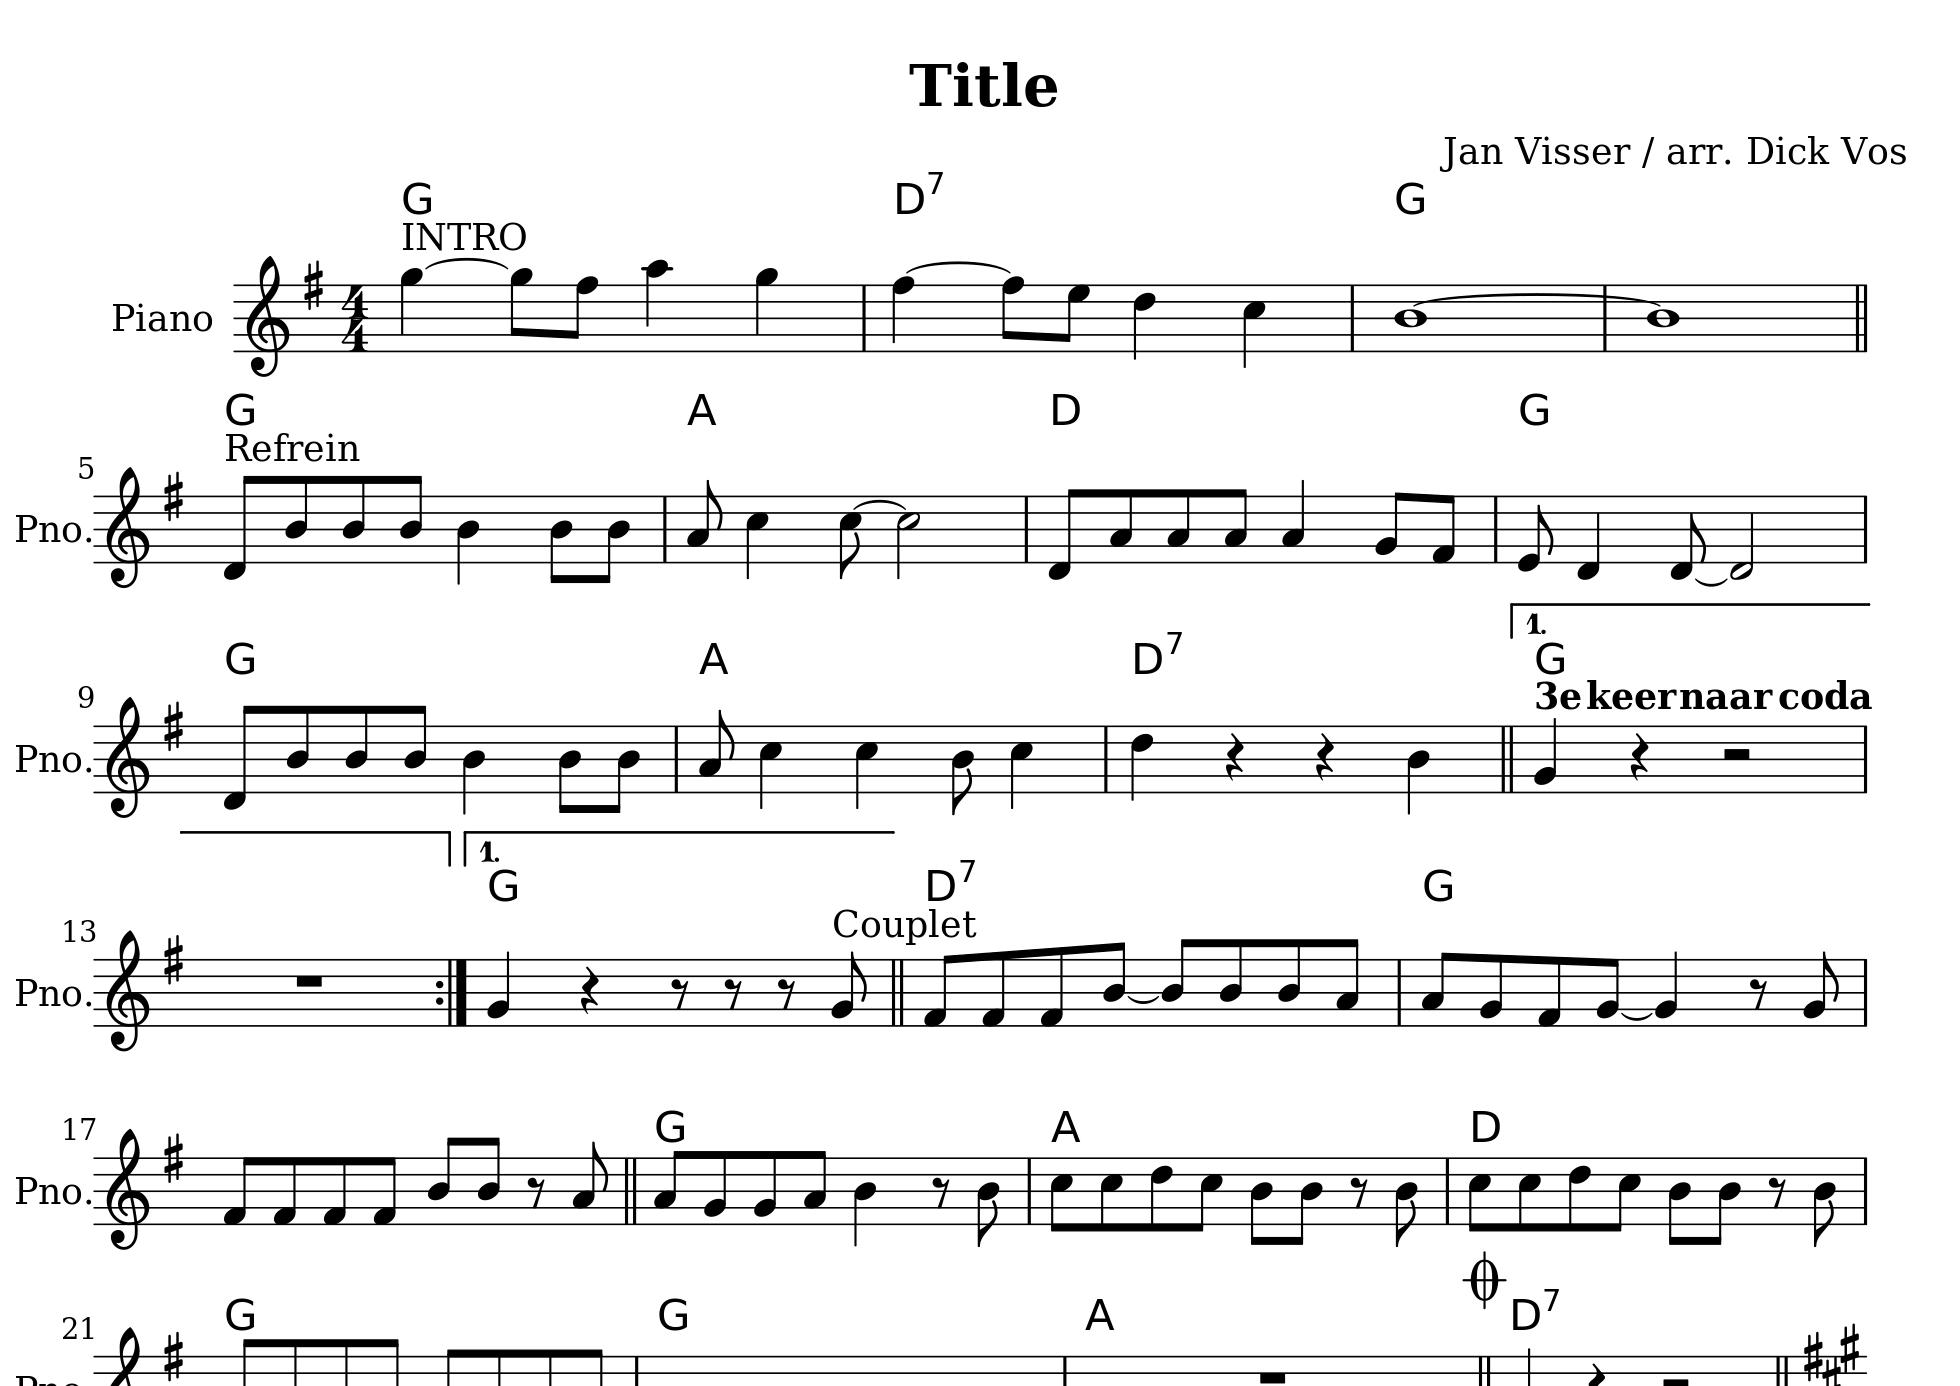1: (61, 1114, 76, 1144), (79, 1314, 94, 1342), (61, 916, 76, 943)
1_4: (1645, 280, 1681, 352), (1393, 280, 1428, 354)
2: (58, 1314, 79, 1342)
2_-1: (1729, 493, 1756, 580)
2_5: (895, 493, 921, 580)
3: (79, 916, 97, 943)
4: (337, 315, 373, 351), (339, 280, 372, 316)
4_-1: (1575, 493, 1602, 582)
4_10: (642, 258, 670, 354)
4_2: (1653, 949, 1680, 1029), (1533, 717, 1560, 795), (486, 949, 511, 1027)
4_3: (1281, 478, 1306, 564)
4_4: (454, 493, 480, 586), (852, 1155, 877, 1248), (460, 723, 486, 814), (1405, 723, 1431, 814)
4_5: (1242, 282, 1269, 369), (757, 723, 783, 811), (853, 723, 879, 811), (744, 493, 769, 580), (1009, 723, 1035, 810)
4_6: (1131, 282, 1156, 361), (1129, 723, 1153, 802)
4_8: (889, 274, 916, 354)
4_9: (753, 265, 780, 354), (397, 265, 423, 354)
5: (78, 453, 94, 480)
7: (79, 1114, 97, 1144), (958, 855, 976, 882), (927, 166, 943, 195), (1165, 628, 1183, 654), (1542, 1285, 1560, 1311)
8_-1: (220, 472, 259, 582), (220, 703, 259, 813), (1047, 486, 1083, 580), (1669, 493, 1708, 580)
8_0: (1518, 493, 1554, 573)
8_1: (220, 1155, 256, 1227), (921, 952, 955, 1027), (1038, 943, 1068, 1029), (1534, 952, 1564, 1029), (979, 949, 1008, 1029), (321, 1153, 349, 1227), (370, 1153, 399, 1227), (1431, 492, 1458, 565), (271, 1153, 298, 1227)
8_2: (829, 949, 867, 1027), (1803, 949, 1839, 1027), (1374, 489, 1407, 564), (751, 1147, 778, 1227), (702, 1149, 729, 1227), (1479, 952, 1506, 1029), (1594, 955, 1621, 1027)
8_3: (696, 708, 735, 793), (685, 477, 723, 564), (571, 1138, 609, 1225), (1420, 949, 1455, 1027), (652, 1147, 685, 1227), (1335, 936, 1362, 1027), (1108, 486, 1135, 565), (1165, 486, 1192, 565), (802, 1147, 828, 1227), (1224, 486, 1248, 564)
8_4: (604, 723, 642, 814), (595, 493, 631, 586), (1707, 1153, 1743, 1246), (1288, 1155, 1324, 1246), (1161, 936, 1194, 1027), (426, 1135, 459, 1225), (283, 703, 312, 795), (283, 472, 310, 565), (340, 472, 367, 565), (547, 493, 574, 586), (556, 723, 583, 816), (949, 723, 976, 816), (1218, 936, 1245, 1029), (1276, 936, 1303, 1029), (975, 1155, 1002, 1248), (343, 703, 370, 795), (475, 1135, 502, 1227), (1248, 1155, 1275, 1246), (1666, 1155, 1693, 1246), (397, 472, 423, 565), (402, 702, 427, 795), (1812, 1155, 1837, 1248), (1101, 940, 1128, 1027), (1393, 1155, 1419, 1246)
8_5: (1608, 1155, 1642, 1233), (1191, 1155, 1224, 1234), (835, 493, 862, 580), (1098, 1155, 1125, 1234), (1048, 1155, 1074, 1234), (1467, 1155, 1492, 1234), (1518, 1155, 1543, 1233)
8_6: (1566, 1155, 1593, 1234), (1149, 1153, 1174, 1234)
8_7: (1059, 282, 1090, 352)
8_8: (565, 274, 598, 354), (1000, 274, 1026, 354)
8_9: (508, 265, 532, 354)
9: (76, 682, 94, 709)
Coda: (1464, 1249, 1506, 1309)
Double_barline: (1497, 724, 1519, 792), (1851, 283, 1872, 352), (619, 1155, 640, 1224), (888, 958, 907, 1024)
Gclef: (102, 928, 151, 1051), (103, 463, 151, 589), (103, 1126, 151, 1251), (243, 253, 291, 376), (103, 694, 151, 817)
Pno: (111, 301, 211, 336), (12, 739, 85, 778), (10, 510, 84, 547), (10, 1171, 84, 1209), (10, 975, 84, 1009)
Prima_volta: (460, 826, 900, 868), (1504, 598, 1873, 642)
Rests1: (291, 970, 327, 990), (1255, 1366, 1291, 1384)
Rests2: (1719, 744, 1756, 765)
Rests4: (1314, 730, 1336, 783), (1629, 730, 1651, 783), (1224, 730, 1245, 783), (579, 964, 600, 1015), (1587, 1360, 1608, 1386)
Rests8: (930, 1174, 952, 1209), (1348, 1174, 1371, 1209), (1767, 1174, 1789, 1209), (775, 976, 796, 1009), (1749, 976, 1770, 1009), (526, 1174, 546, 1209), (670, 976, 690, 1009), (723, 976, 742, 1009)
RightRepeatSign: (433, 958, 469, 1026)
Sharp: (160, 697, 187, 754), (160, 931, 187, 988), (160, 1129, 187, 1186), (160, 469, 187, 525), (160, 1329, 186, 1381), (301, 259, 325, 313)
Single_barline: (655, 495, 673, 562), (667, 724, 685, 790), (1597, 283, 1614, 352), (1488, 493, 1504, 562), (856, 283, 873, 351), (1857, 495, 1873, 562), (1392, 957, 1408, 1024), (1857, 958, 1873, 1026), (1440, 1155, 1456, 1222), (1098, 724, 1114, 790), (1858, 1156, 1873, 1225), (1020, 495, 1035, 562), (1345, 283, 1360, 349), (1858, 726, 1873, 792), (1023, 1156, 1038, 1222)
Slur: (1416, 291, 1659, 307), (904, 259, 1014, 274), (424, 255, 511, 270), (850, 498, 907, 511), (1693, 576, 1731, 586), (1620, 1011, 1656, 1021), (1128, 994, 1161, 1003)
TimeSig: (339, 283, 372, 352)
